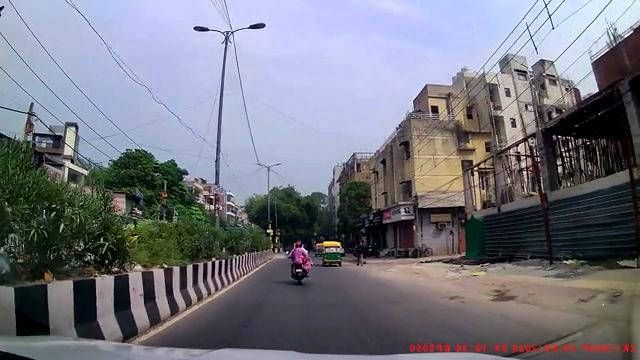passenger_with_helmet: (287, 239, 313, 285)
